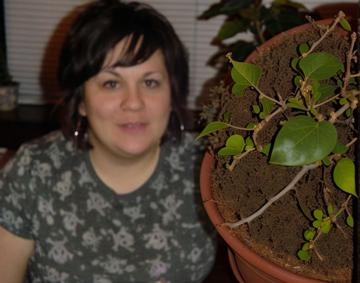person: (2, 2, 246, 283)
pottedplant: (194, 2, 359, 283)
